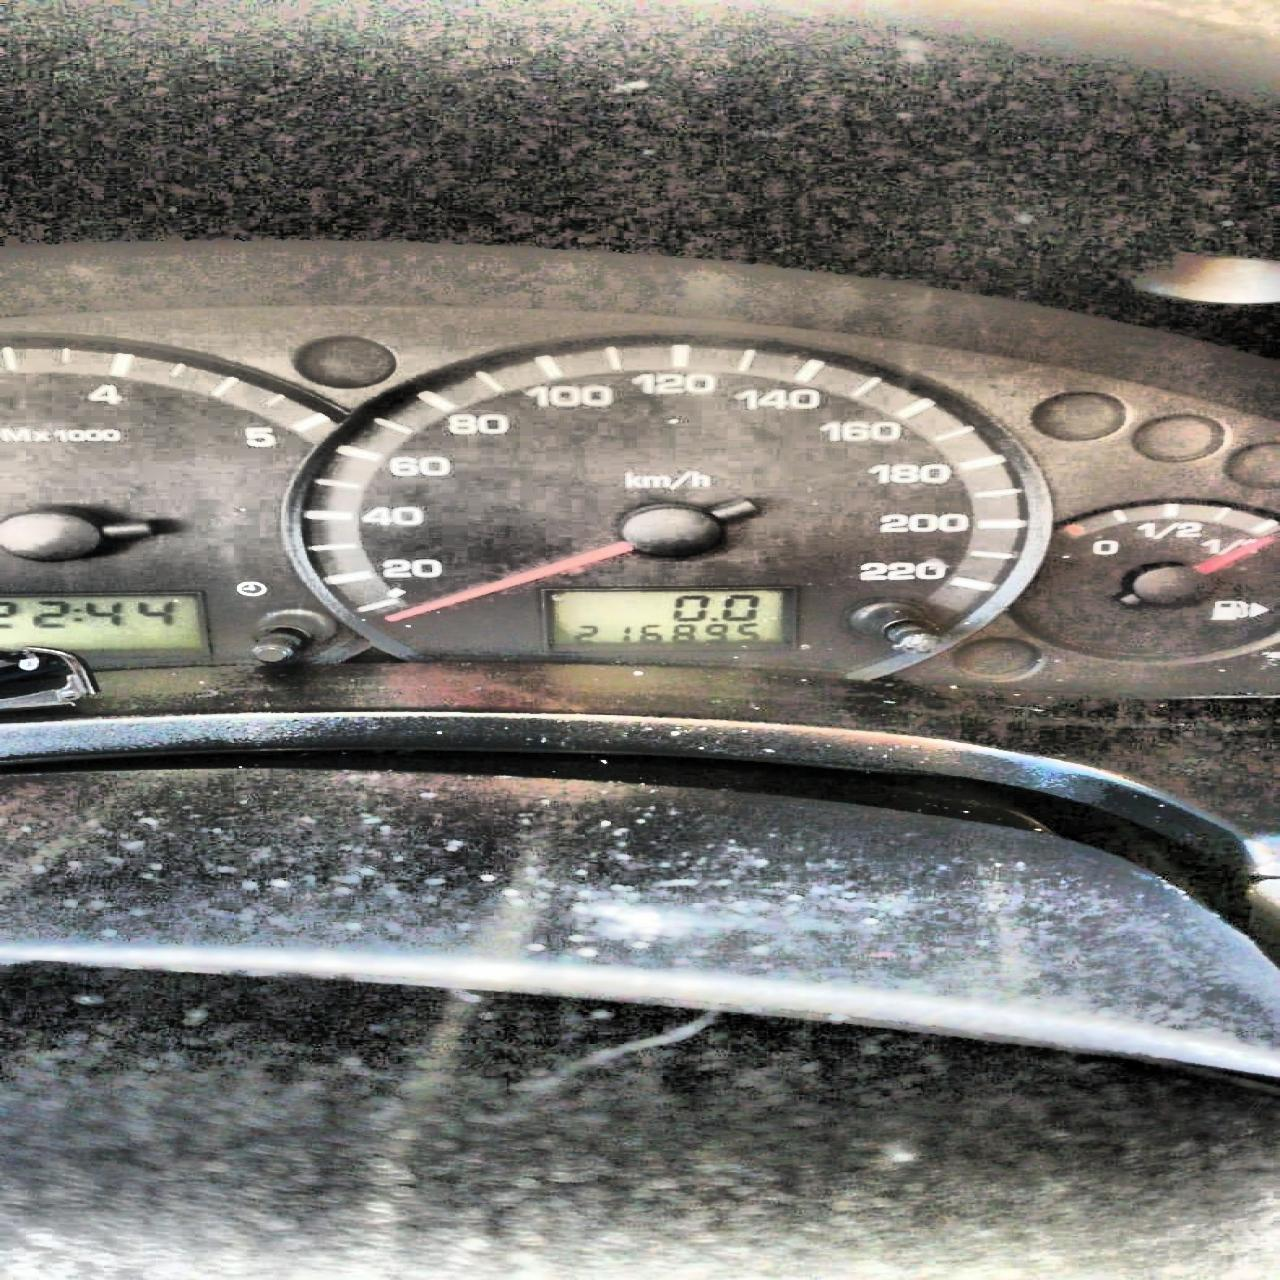-: (708, 617, 717, 621)
0: (670, 593, 708, 620), (721, 594, 758, 620)
1: (620, 625, 632, 644)
2: (572, 625, 598, 645)
5: (736, 622, 761, 642)
6: (639, 624, 661, 642)
8: (670, 624, 693, 642)
9: (703, 622, 728, 644)
odometer: (535, 584, 799, 655)
